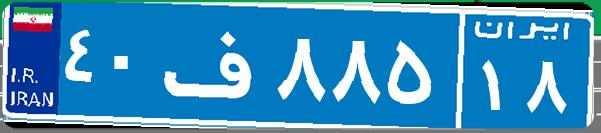0: (110, 28, 158, 105)
1: (475, 38, 525, 113)
4: (57, 26, 110, 107)
5: (385, 28, 445, 110)
8: (273, 28, 330, 110), (330, 28, 385, 110), (525, 38, 570, 115)
ف: (158, 15, 273, 115)
